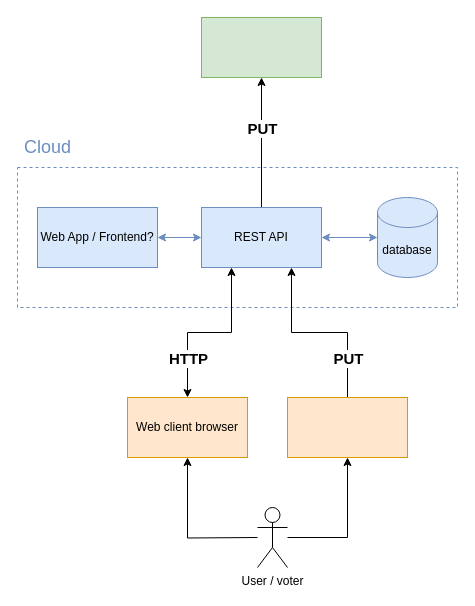
The diagram is 475 pixels wide and 606 high, and some of its shapes have lost their labels. The centre of each missing label's shape, as x and y in pixels:
"Dweet.io" belongs at [261,47].
"IoT voting device" belongs at [347,427].
